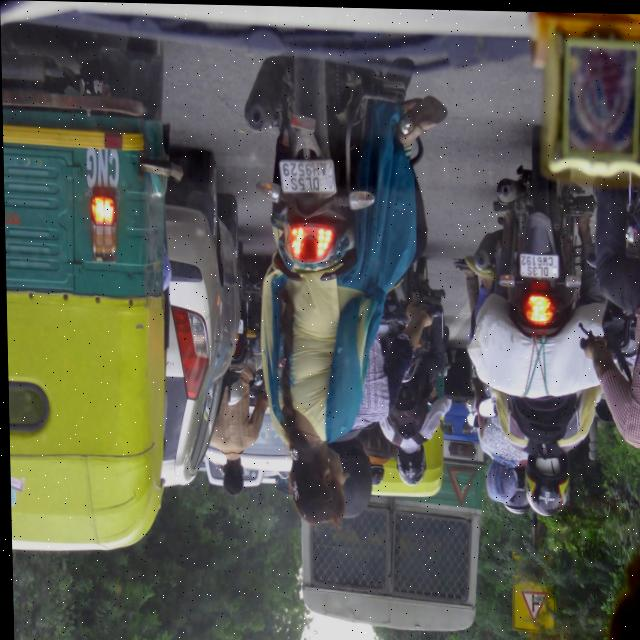plate: (274, 154, 338, 197), (517, 247, 562, 281)
